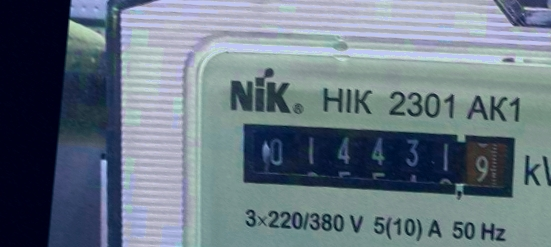0: (264, 135, 287, 170)
1: (300, 133, 321, 168), (437, 141, 453, 174)
3: (400, 138, 422, 172)
4: (331, 133, 355, 168), (366, 134, 387, 169)
9: (470, 153, 490, 185)
screen: (229, 105, 530, 218)
